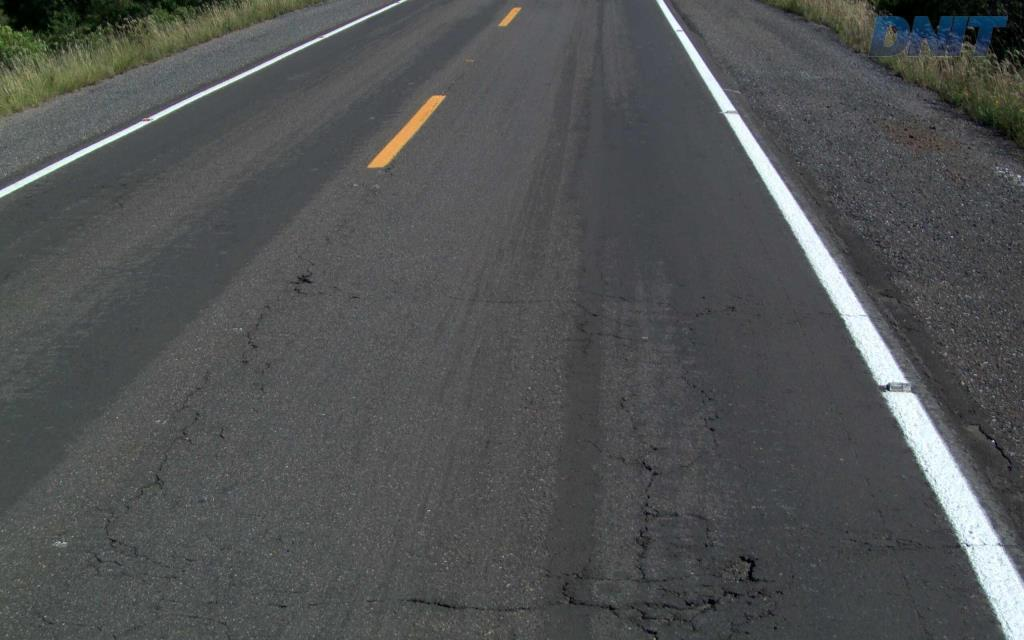crack: (561, 581, 619, 617), (718, 553, 768, 584)
